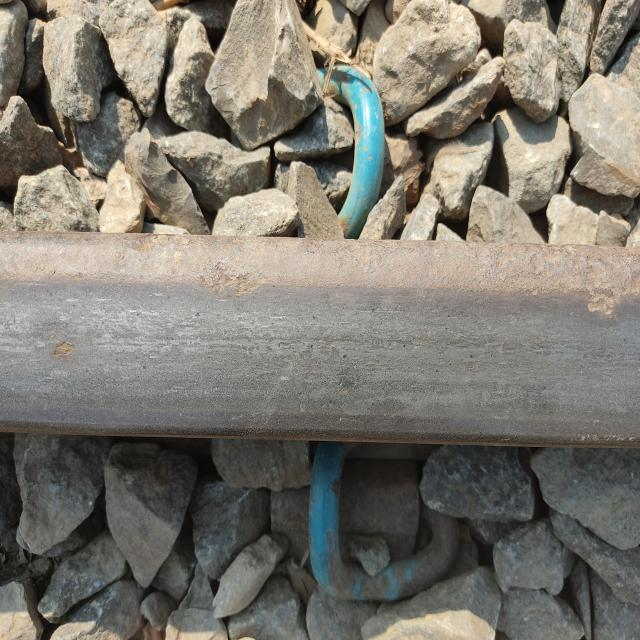broken_rail_medium: (586, 266, 624, 322), (201, 264, 259, 297), (50, 337, 74, 361)
